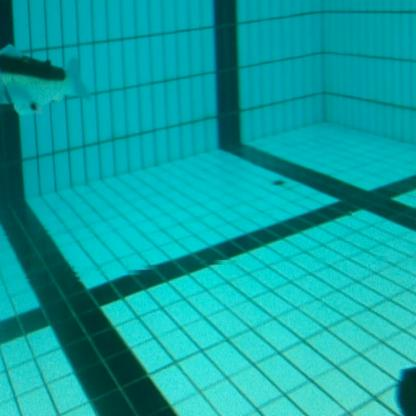tail: (0, 42, 96, 113)
